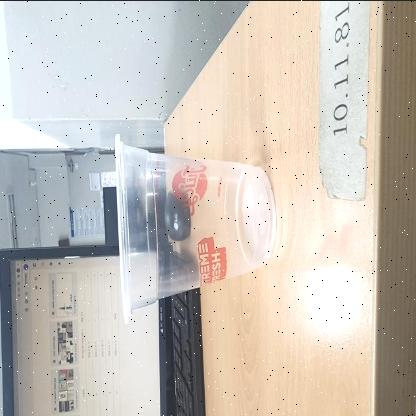Others: (114, 132, 276, 324)
